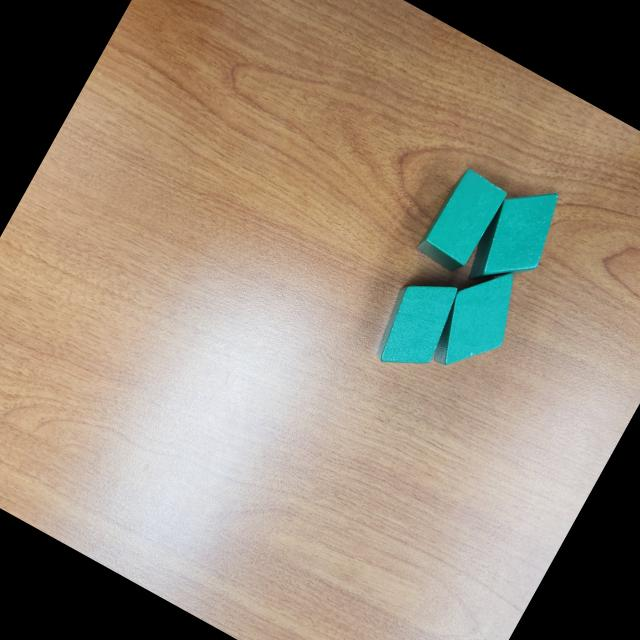green: (460, 170, 574, 308), (422, 252, 536, 388), (364, 264, 468, 382), (413, 163, 512, 280)
